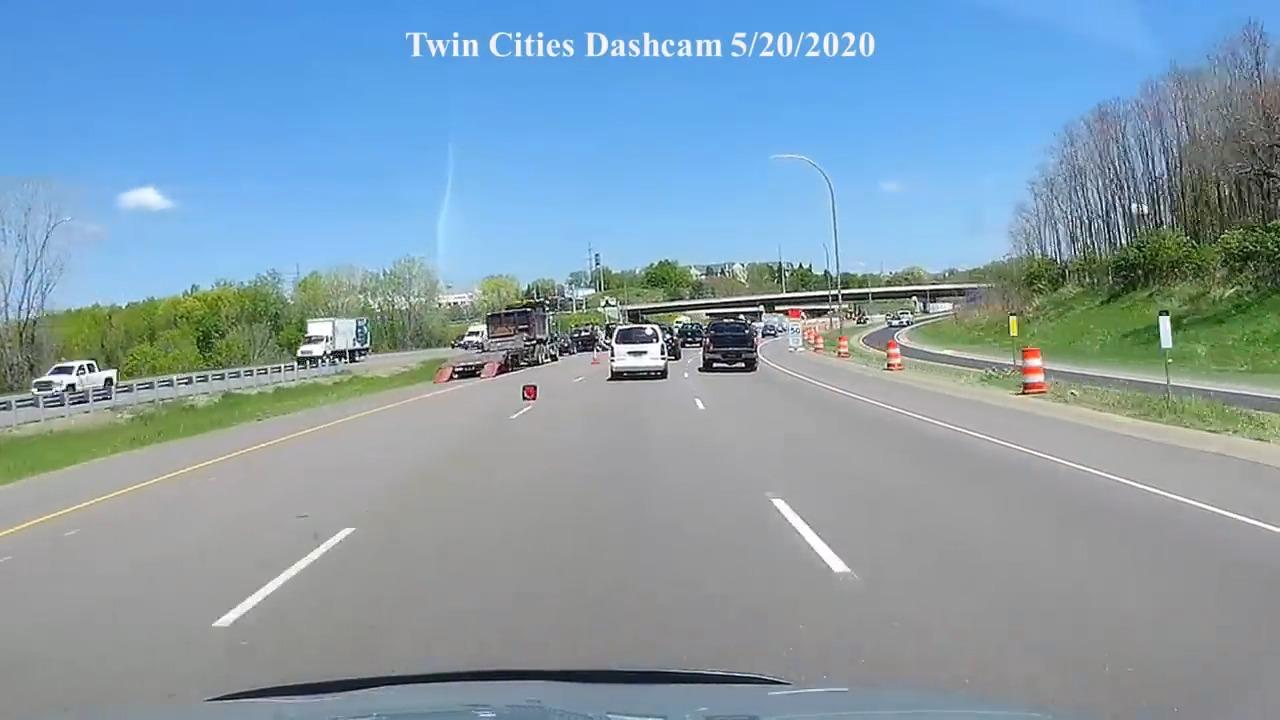car: (31, 361, 117, 406), (607, 324, 669, 381)
traffic cone: (1016, 346, 1050, 395), (885, 336, 904, 372), (836, 334, 851, 359)
